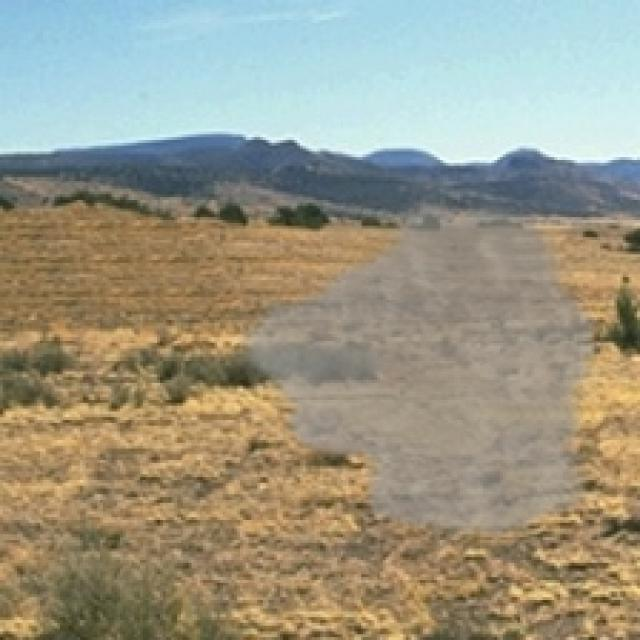Smoke: (231, 191, 603, 546)
